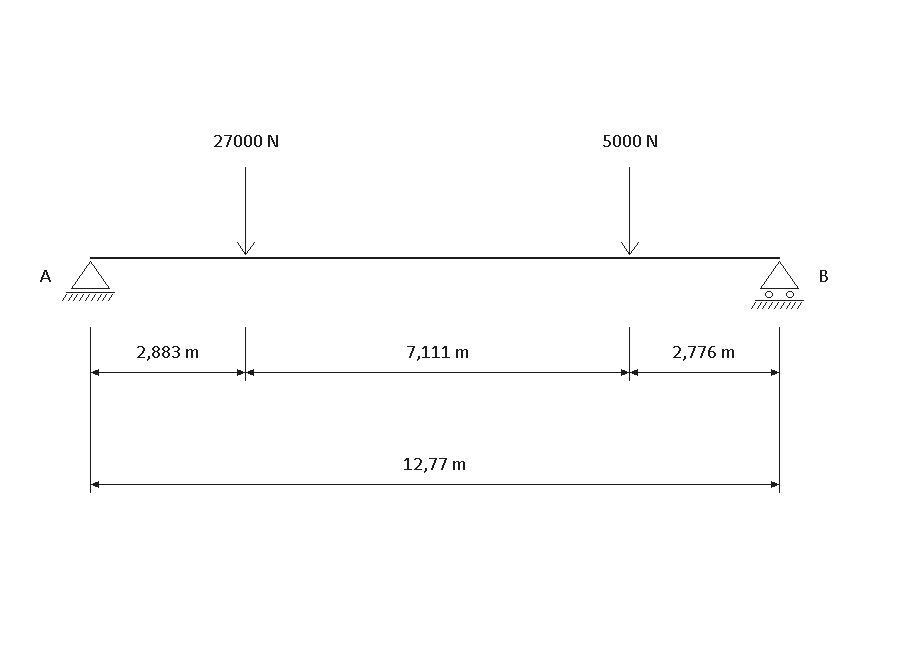pin_support: (62, 261, 115, 301)
point_load: (237, 167, 255, 255), (621, 167, 639, 255)
roller_support: (751, 261, 804, 309)
